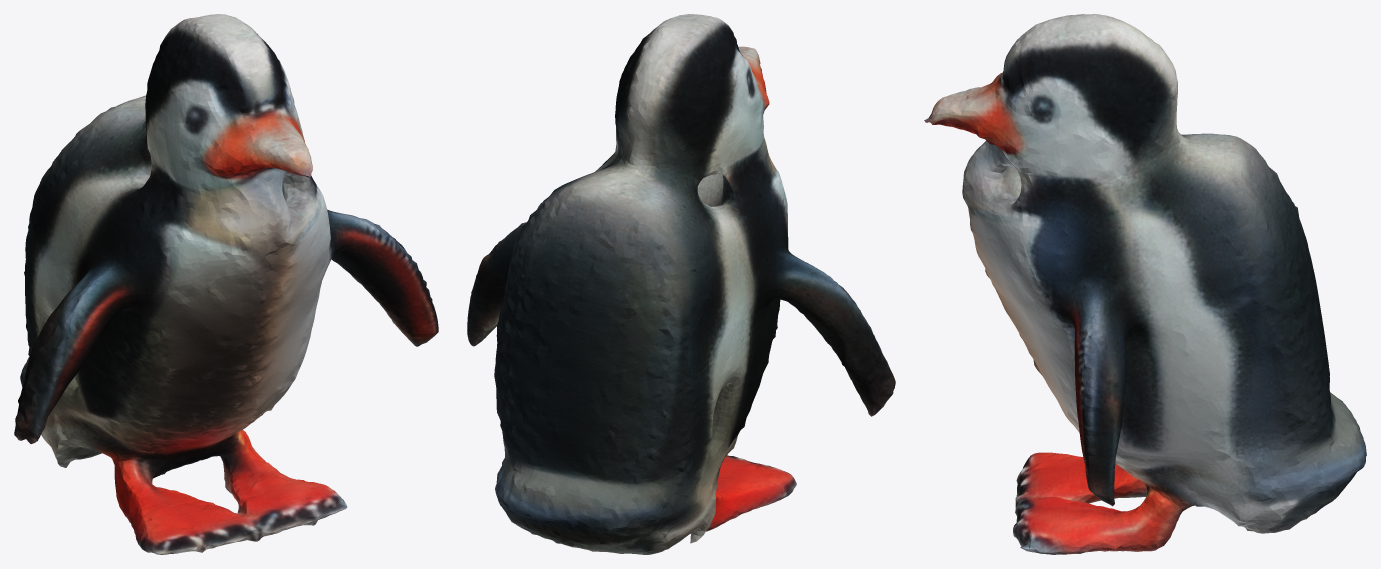
The picture shows the model from 3 angles, left to right: view 1: azimuth 30°, elevation 25°; view 2: azimuth 150°, elevation 25°; view 3: azimuth 270°, elevation 25°; orthographic projection. The views are drawn at different scales.
Bounding box in the file's own units: 0.8907 × 0.9907 × 0.79.
Materials: 1 (1 with a texture image).
